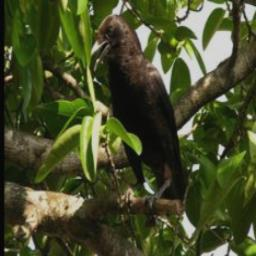Crow: (86, 9, 188, 216)
